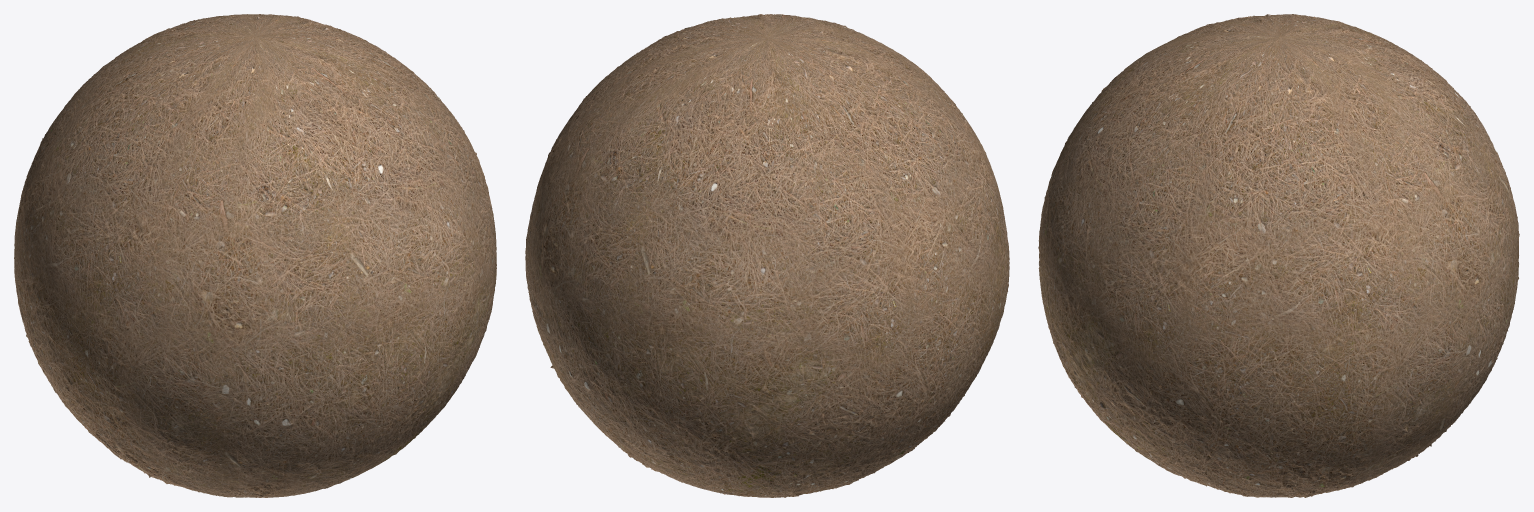
File: forrest_ground_03_4k.gltf
The picture shows the model from 3 angles, left to right: view 1: azimuth 30°, elevation 25°; view 2: azimuth 150°, elevation 25°; view 3: azimuth 270°, elevation 25°; orthographic projection.
Parts seen in each view (by area): view 1: sphere_gltf; view 2: sphere_gltf; view 3: sphere_gltf.
Boxes of the visible parts, x1,y1,x2,y2 form: sphere_gltf: (14, 14, 496, 497); sphere_gltf: (525, 14, 1009, 497); sphere_gltf: (1038, 14, 1519, 497).
Bounding box in the file's own units: 2.01 × 2 × 1.99.
1 material, 1 textured.
